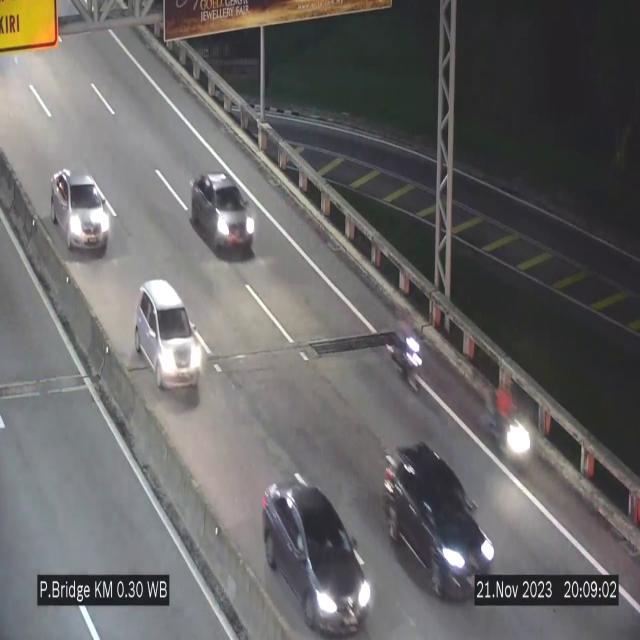Car: (382, 440, 495, 608), (262, 479, 374, 634), (134, 280, 203, 390), (191, 171, 255, 257), (51, 168, 111, 254)
Motorcycle: (493, 377, 529, 484), (386, 298, 423, 400)
